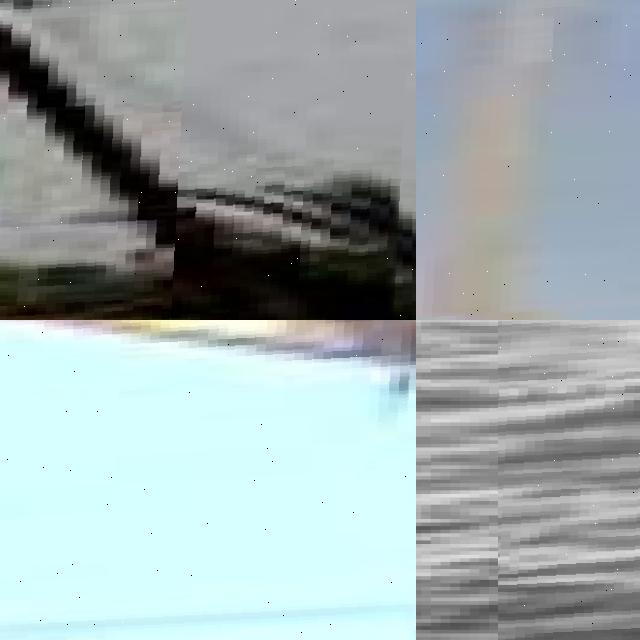street light: (0, 0, 416, 320), (0, 320, 416, 640), (416, 0, 640, 320), (498, 320, 640, 640)
